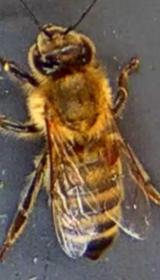varroa_mite: (82, 132, 132, 171)
